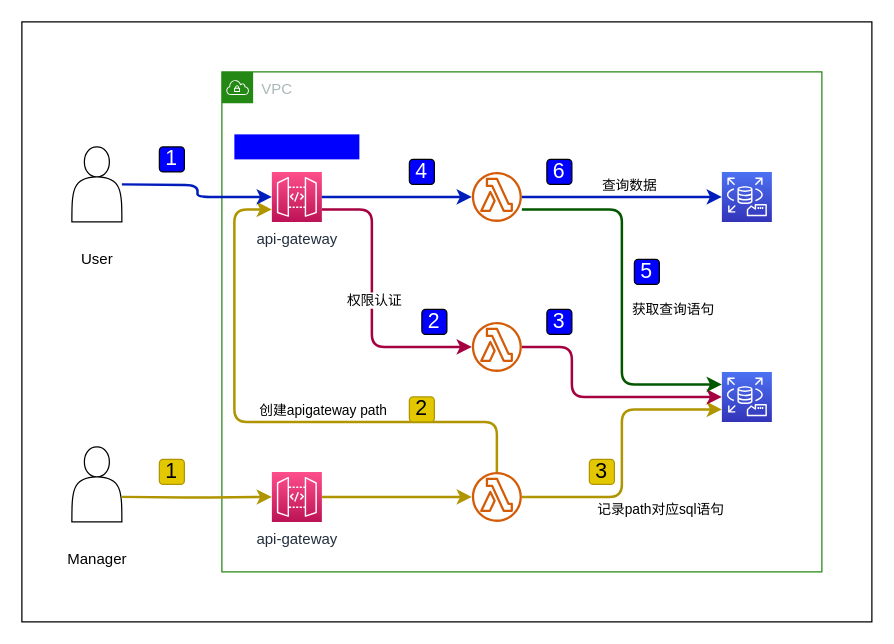
The diagram is 894 pixels wide and 644 high, and some of its shapes have lost their labels. Here are the shapes that lost their labels. From the top down, the centre of each, then its label:
At [296,146]: "/api/path/to/data".
At [496,196]: "select business data".
At [746,196]: "data hub".
At [496,346]: "auth".
At [746,396]: "api database".
At [496,496]: "api manage".
